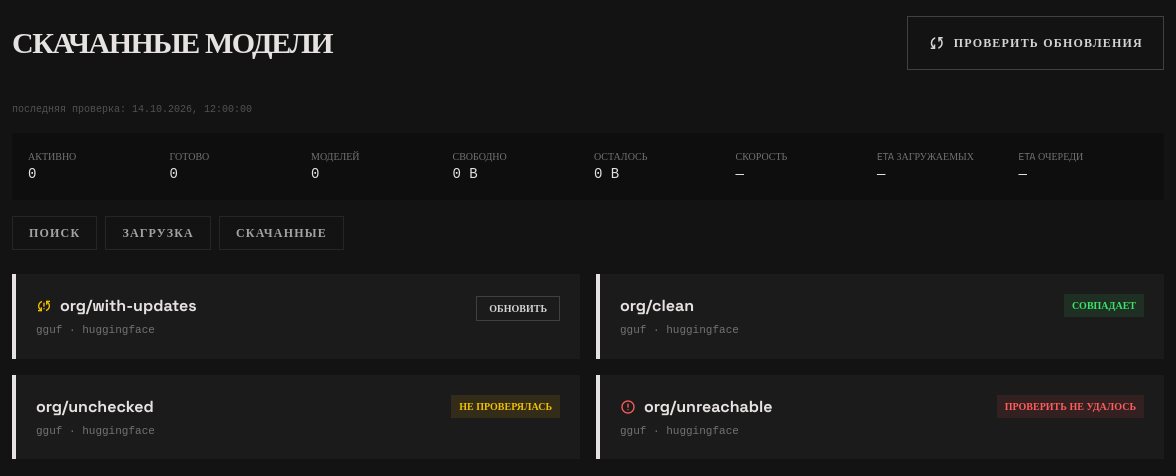
it: DownloadedModelsPage — ход асинхронной проверки › у проверяемой модели спиннер и надпись «проверка обновлений» вместо «не проверялась»
Step 1. Click the button with test id "check-updates" → (1035, 43), box [907,16,1164,70]
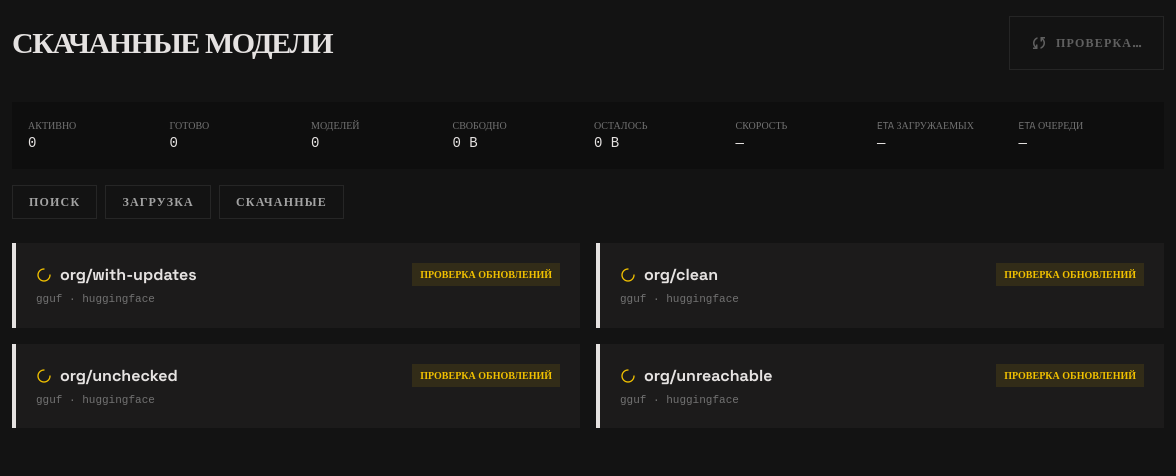
Expected: the text with test id "checking-1" is shown, [36,263,52,287]
Expected: the text "проверка обновлений" in the row of "org/with-updates" is shown, [420,268,552,281]
Expected: the link "не проверялась" is gone
